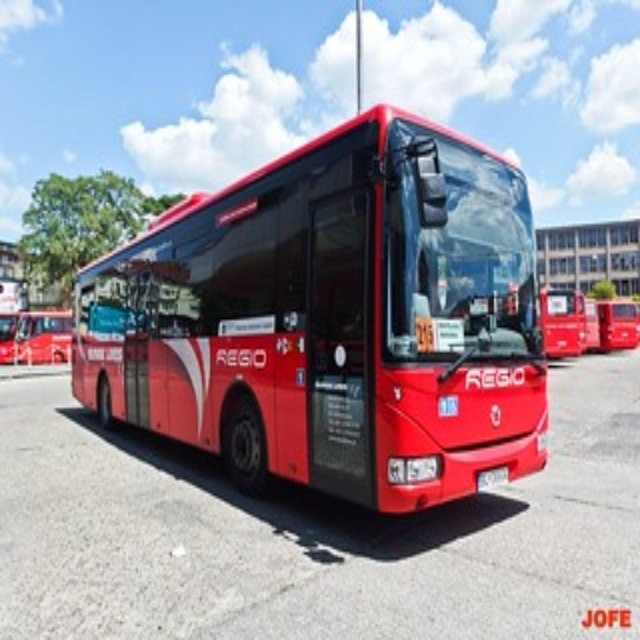Bus: (70, 101, 550, 517), (2, 307, 74, 365)
